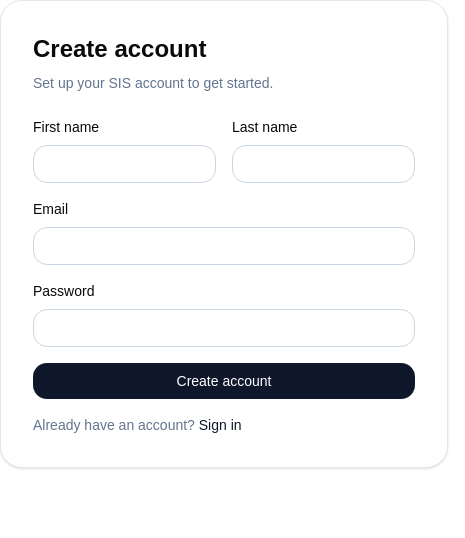
Test case: RegisterPage — API errors › shows the server message on a generic error
Type "Bob" into the field labelled "First name".
click(124, 164); type("Bob")  # box x1=33 y1=145 x2=216 y2=183
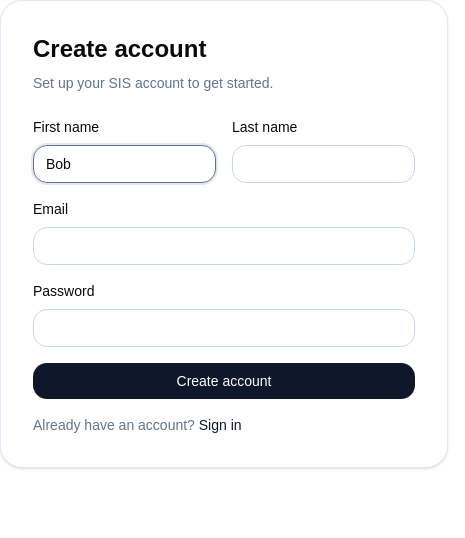
Type "Jones" into the field labelled "Last name".
click(324, 164); type("Jones")  # box x1=232 y1=145 x2=415 y2=183
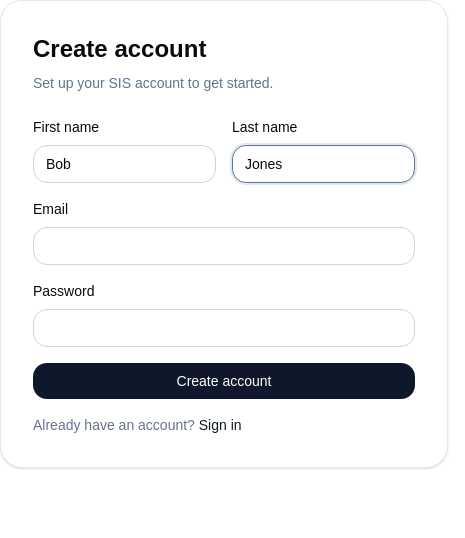
Type "bob@uni.edu" into the field labelled "Email".
click(224, 246); type("bob@uni.edu")  # box x1=33 y1=227 x2=415 y2=265
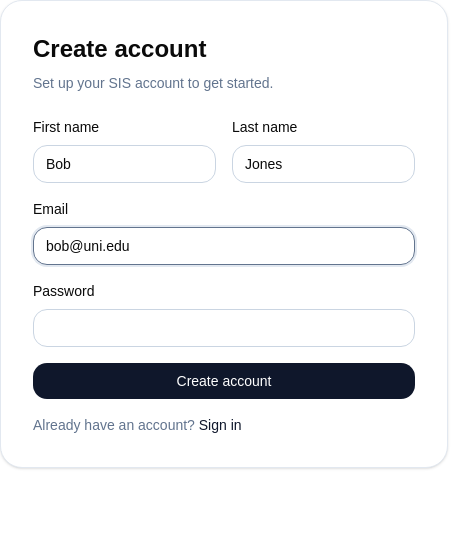
Type "secure456" into the password field labelled "Password".
click(224, 328); type("secure456")  # box x1=33 y1=309 x2=415 y2=347
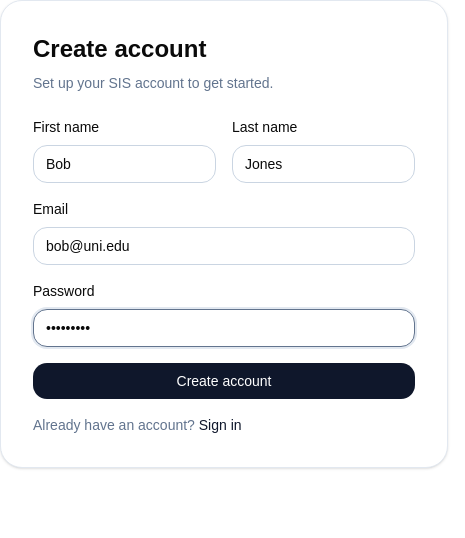
Click the button "Create account".
click(224, 381)  # box x1=33 y1=363 x2=415 y2=399
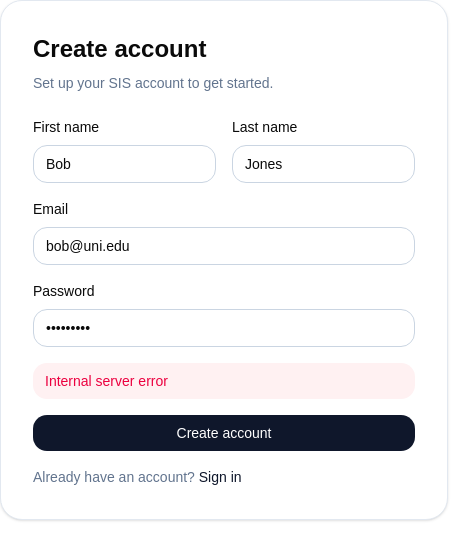
Result: the text "Internal server error" is shown at x1=33 y1=363 x2=415 y2=399
